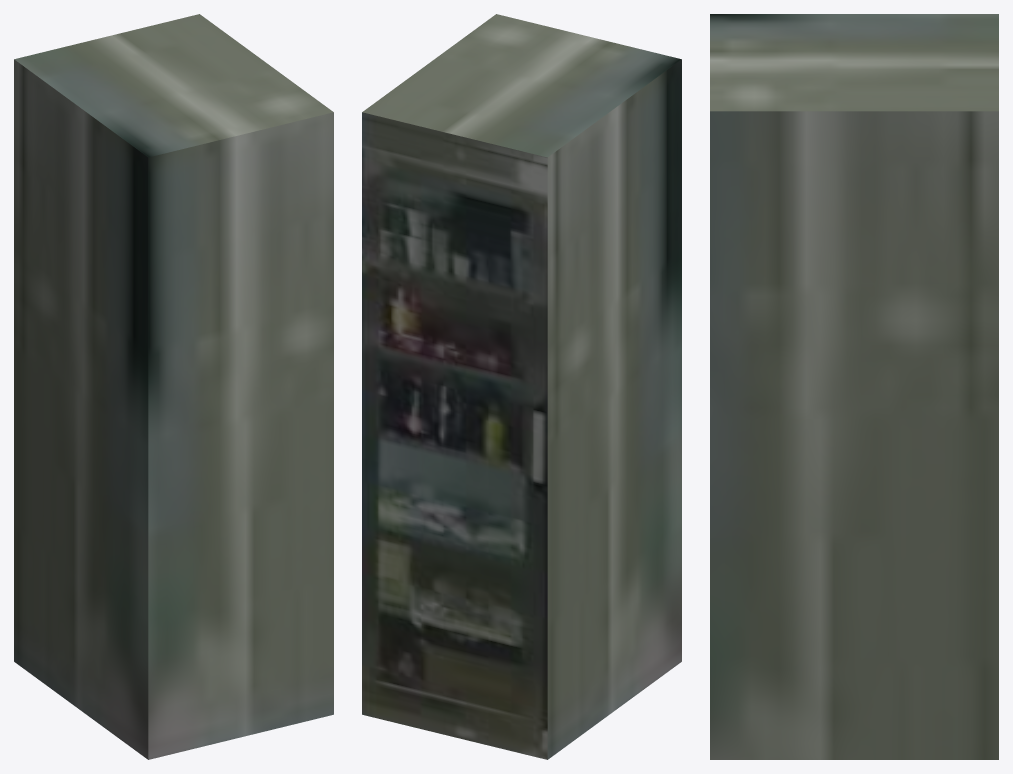
File: small_alcohol_cooler.glb
The picture shows the model from 3 angles, left to right: view 1: azimuth 30°, elevation 25°; view 2: azimuth 150°, elevation 25°; view 3: azimuth 270°, elevation 25°; orthographic projection. The views are drawn at different scales.
Visible parts, largest first — view 1: Librero.014; view 2: Librero.014; view 3: Librero.014.
Part boxes in pixels (x1=…): Librero.014: x1=14, y1=14, x2=333, y2=759; Librero.014: x1=362, y1=14, x2=681, y2=759; Librero.014: x1=710, y1=14, x2=998, y2=759.
Bounding box in the file's own units: 0.9248 × 2.87 × 1.16.
1 material, 1 textured.
